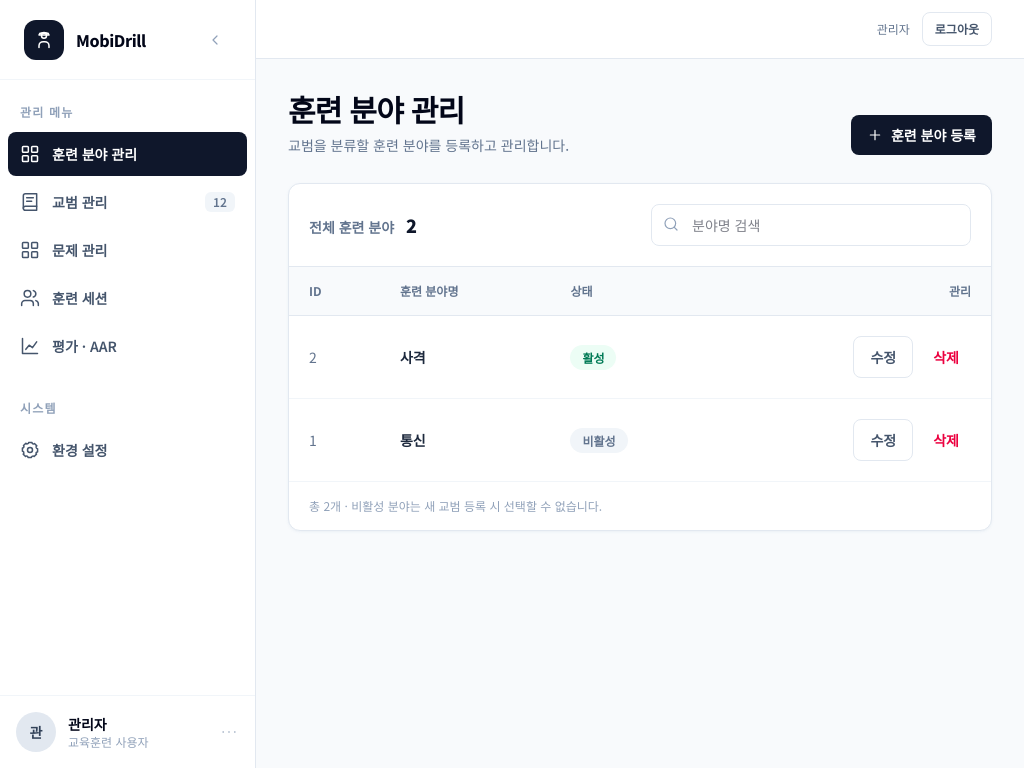
PUT 실패 시 기존 목록과 대화상자를 유지한다
The image size is (1024, 768).
Click the button with aria-label "사격 수정": (883, 357) [854,336,913,378]
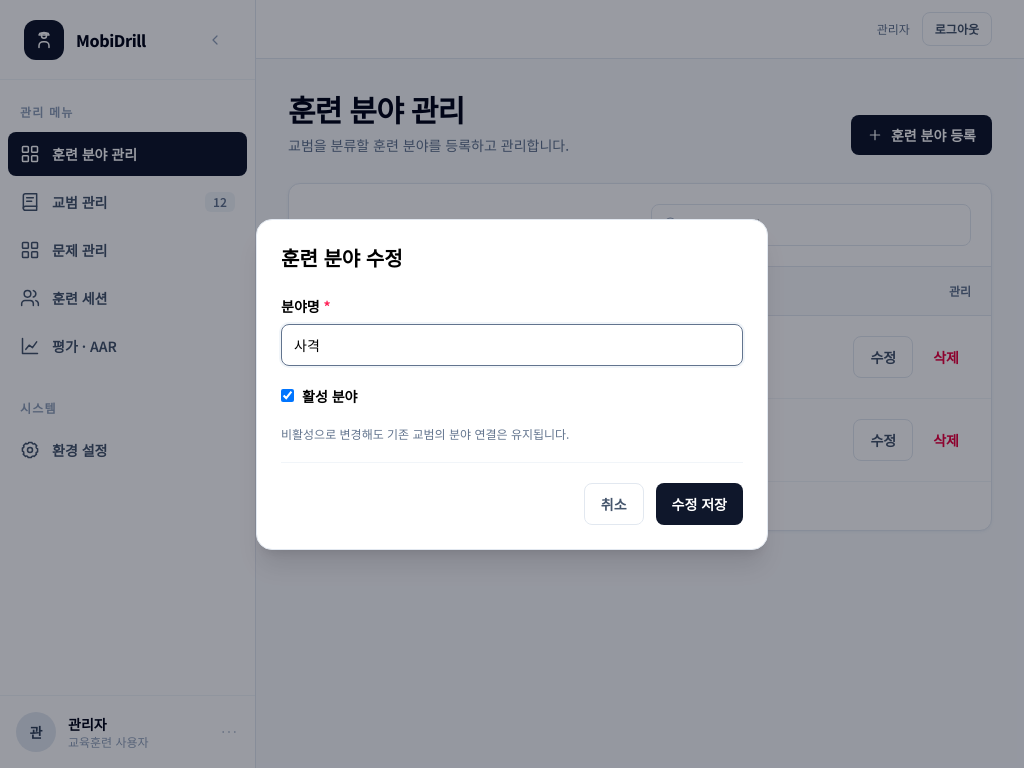
Replace the text in the field labelled "분야명 *" with "수정 분야": (512, 344) [281,324,743,366]
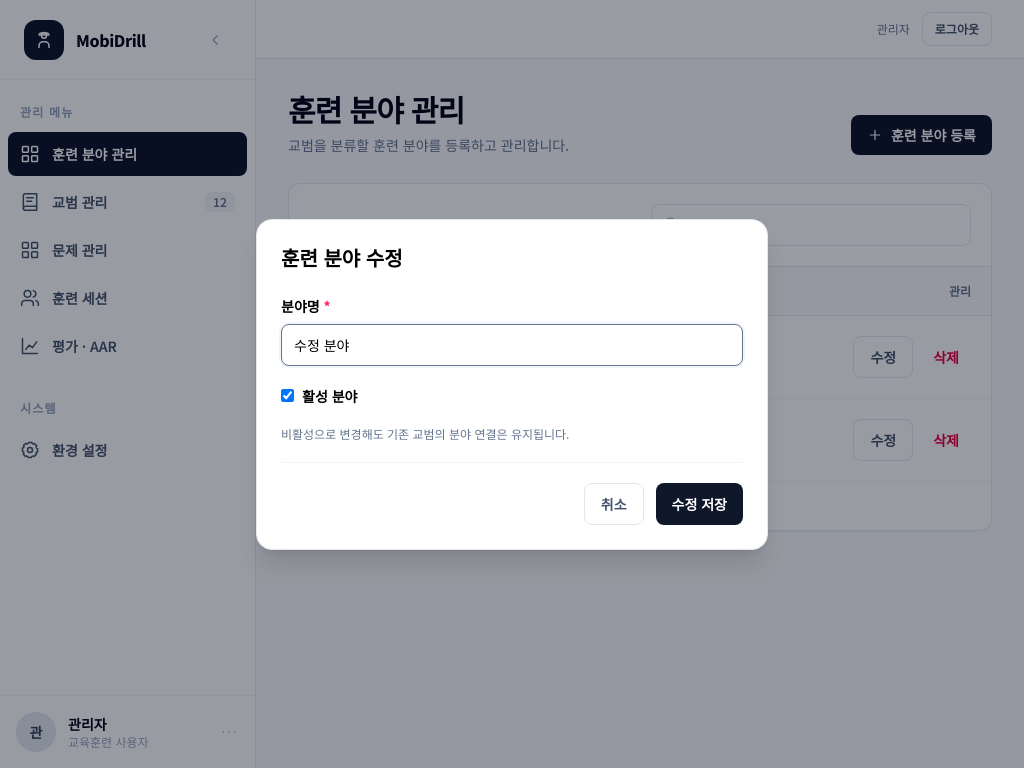
Click the button "수정 저장": (699, 504) [656,482,743,524]
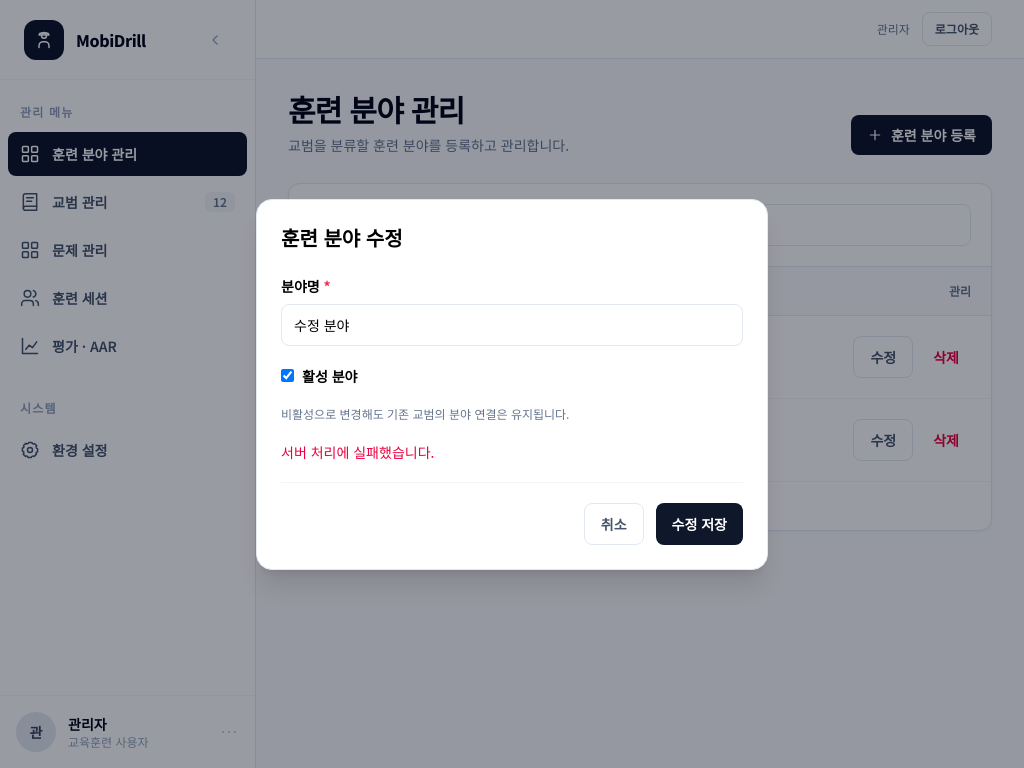
Expected: the column heading "사격" is shown, [380,316,550,398]
Expected: the dialog is shown, [256,198,768,570]
Expected: the message shows "서버 처리", [281,442,434,462]
